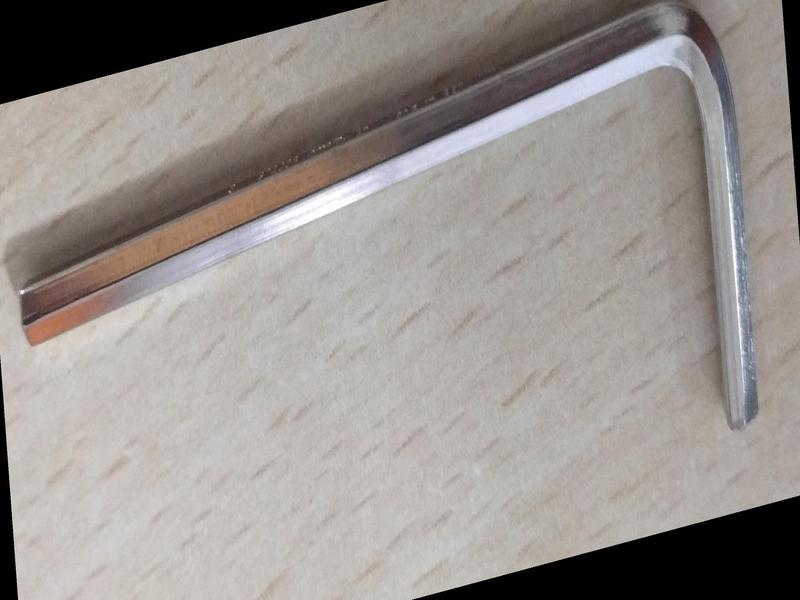turner: (17, 1, 779, 435)
